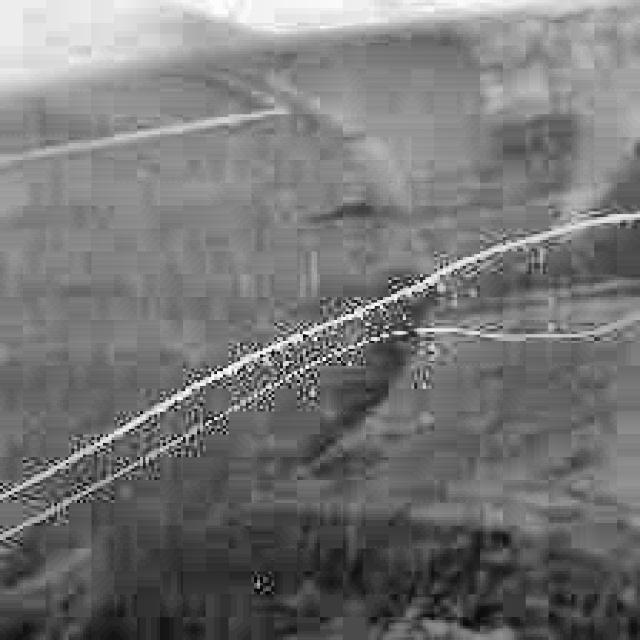door_scratch: (2, 208, 640, 533)
